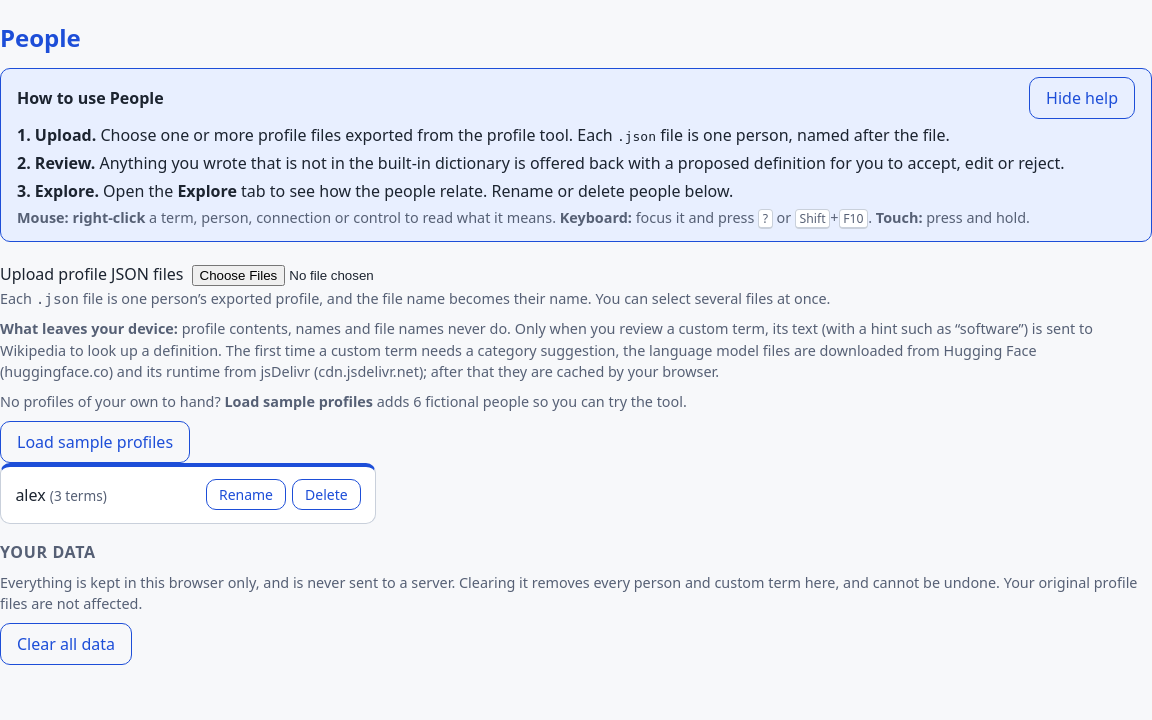
Scenario: People guidance › explains a person on right-click
The width and height of the screenshot is (1152, 720).
Step 1. Right-click the text "alex" → (61, 495), box [15,484,107,506]
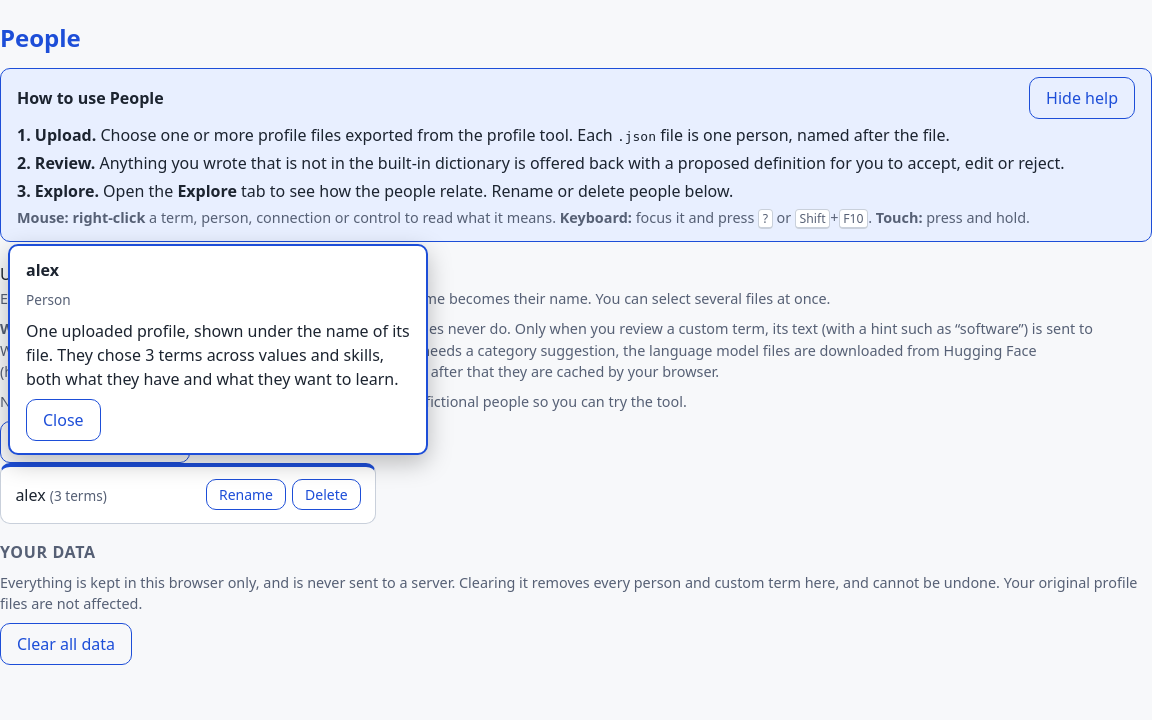
Check: the dialog shows "3 terms", box [26,320,410,390]
